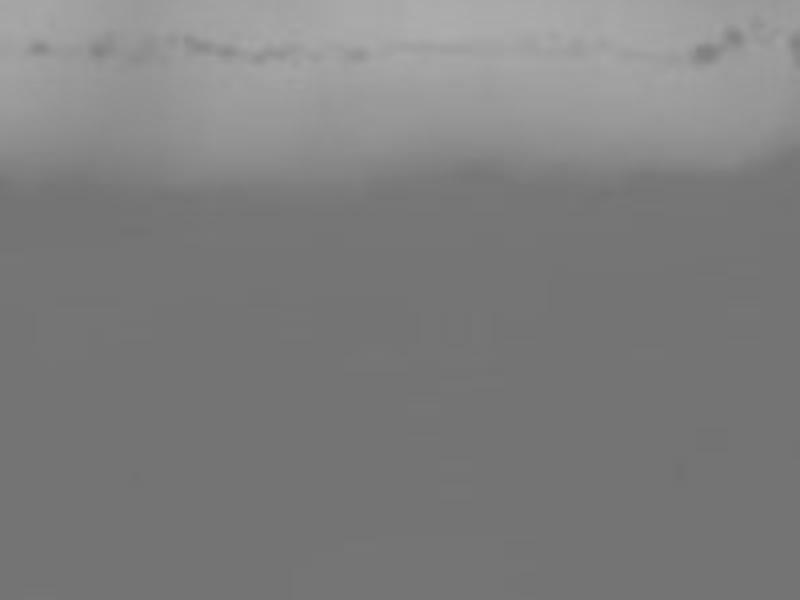defect: (88, 32, 122, 64), (556, 34, 596, 61), (346, 43, 371, 67), (185, 33, 213, 54), (269, 42, 302, 59), (784, 28, 797, 71), (215, 40, 239, 63), (26, 39, 51, 58), (721, 25, 741, 48), (695, 42, 719, 61), (748, 14, 770, 34), (164, 33, 181, 49), (250, 52, 268, 66)
